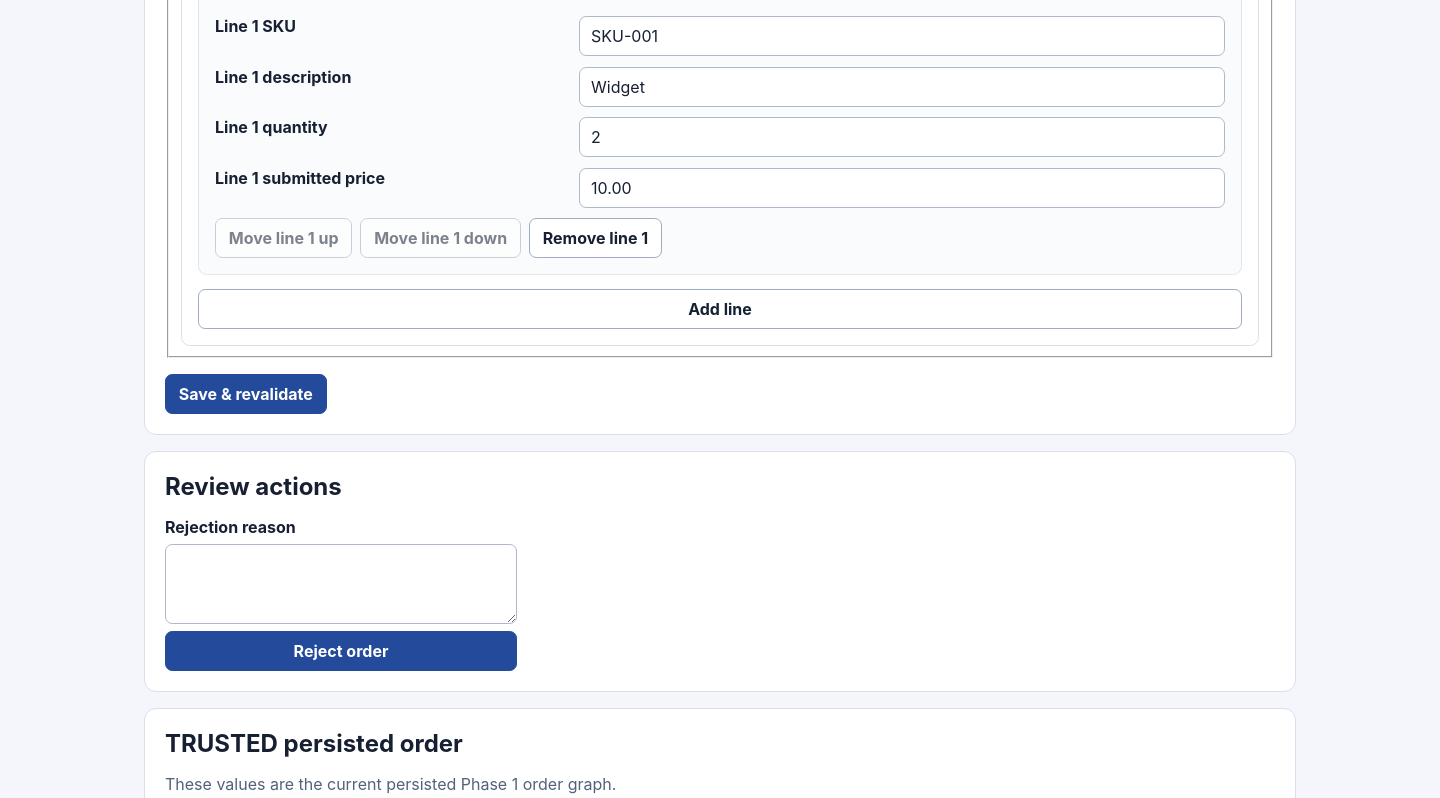
Test: ReviewDetailPage › adopts a clean revalidation response and hides editing when the backend disallows it
This screenshot has width=1440, height=798.
(page scrolled)
Click the button "Save & revalidate" at (246, 394), box x1=165 y1=374 x2=327 y2=414
(page scrolled)
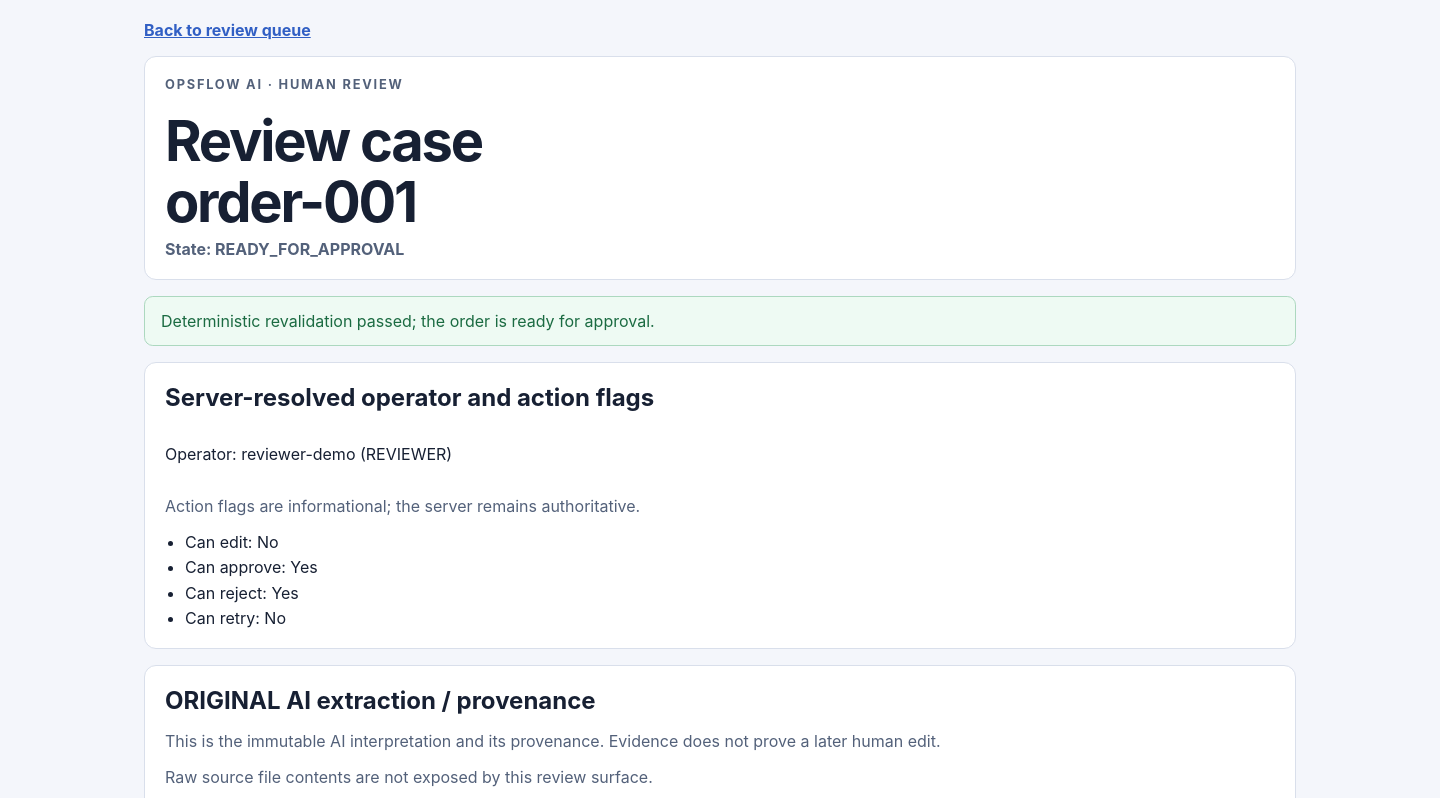
expect the text "State: READY_FOR_APPROVAL" is shown: met, box x1=165 y1=239 x2=404 y2=259
expect the text "Deterministic revalidation passed; the order is ready for approval." is shown: met, box x1=144 y1=296 x2=1296 y2=346
expect the button "Save & revalidate" is gone: met
